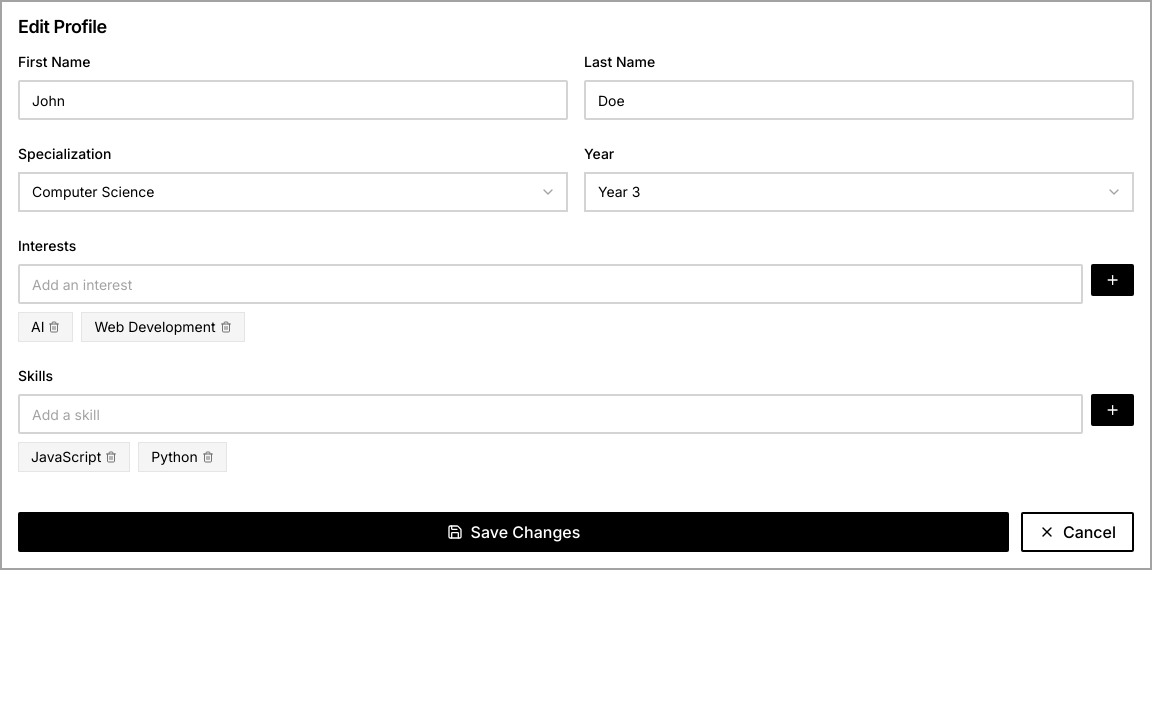
Test: ProfileForm › Student Profile Form › allows removing interests
The image size is (1152, 720).
Click the button without text next to "AI". click: (54, 327)
box: [48,321,60,333]
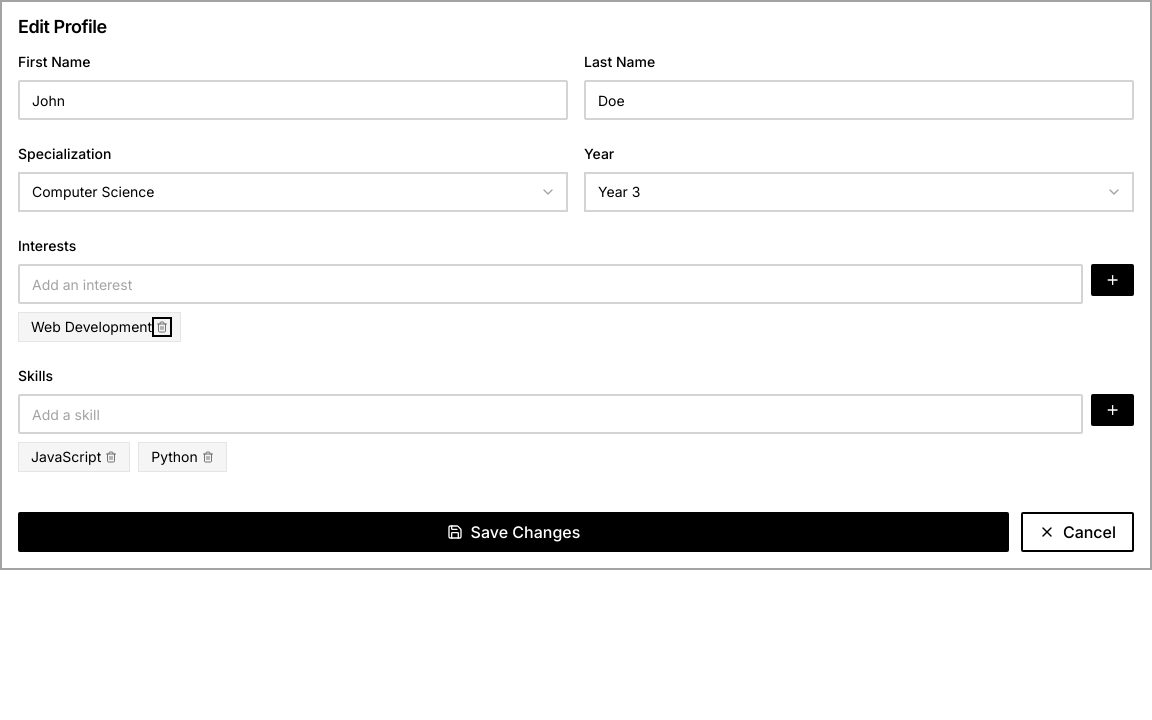
Result: the text "AI" is gone
